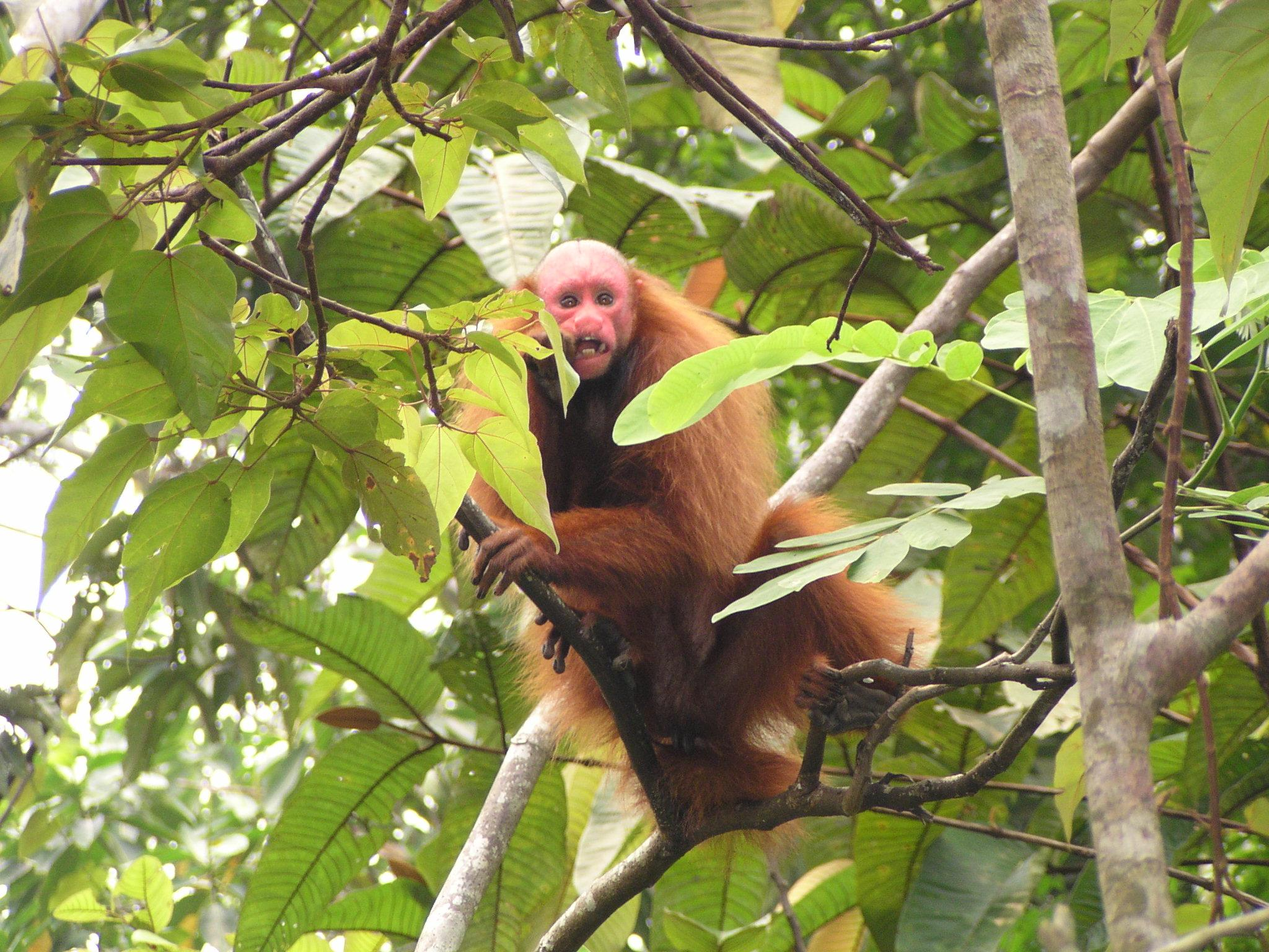monkey: (455, 243, 933, 833)
